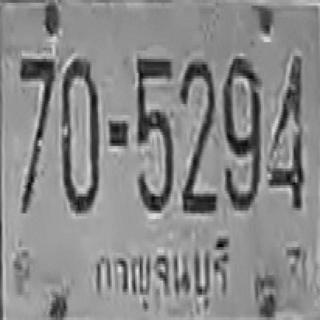N00: (61, 58, 99, 212)
N02: (179, 58, 217, 212)
N04: (268, 53, 304, 211)
N05: (135, 56, 172, 210)
N07: (19, 56, 55, 213)
N09: (223, 55, 260, 209)
P17: (88, 232, 234, 311)
